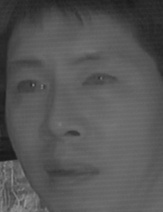eye: (82, 69, 121, 91), (14, 76, 49, 98)
mouth: (40, 152, 101, 192)
